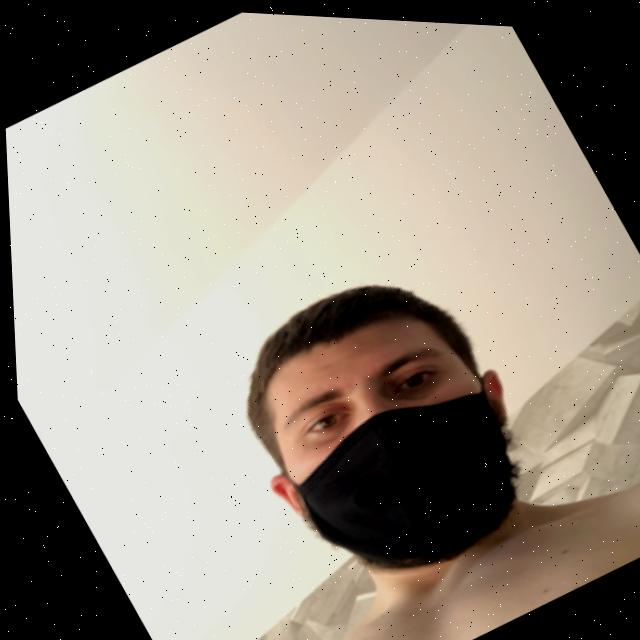Mask: (252, 340, 557, 609)
